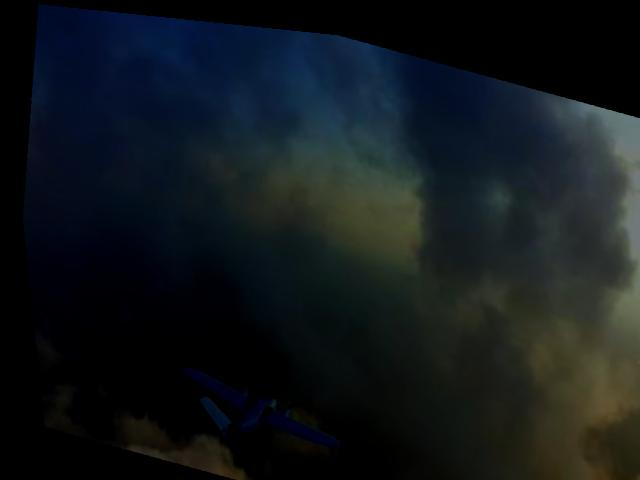uav: (158, 349, 343, 467)
